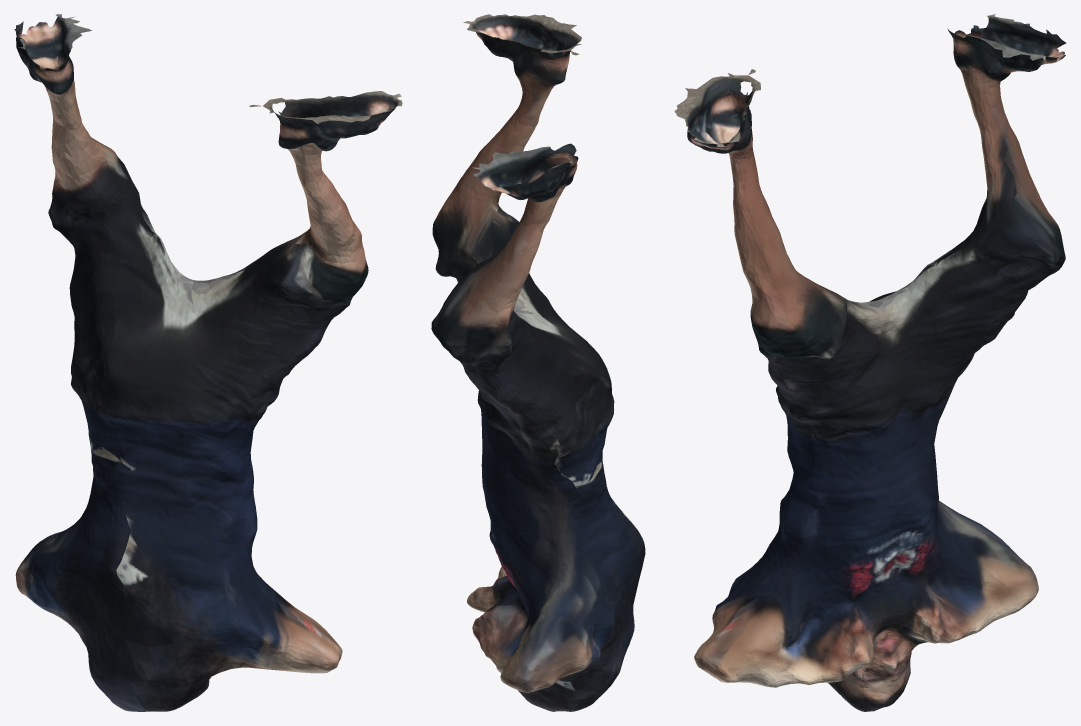
File: sami.obj
3 renders of one model, left to right at view 1: azimuth 30°, elevation 25°; view 2: azimuth 150°, elevation 25°; view 3: azimuth 270°, elevation 25°, orthographic. The views are drawn at different scales.
Visible parts, largest first — view 1: Mesh_mesh; view 2: Mesh_mesh; view 3: Mesh_mesh.
Boxes of the visible parts, left/top/right/bottom form: Mesh_mesh: left=14, top=14, right=402, bottom=711; Mesh_mesh: left=431, top=14, right=645, bottom=711; Mesh_mesh: left=674, top=14, right=1066, bottom=711.
Bounding box in the file's own units: 10.6 × 25.13 × 13.72.
